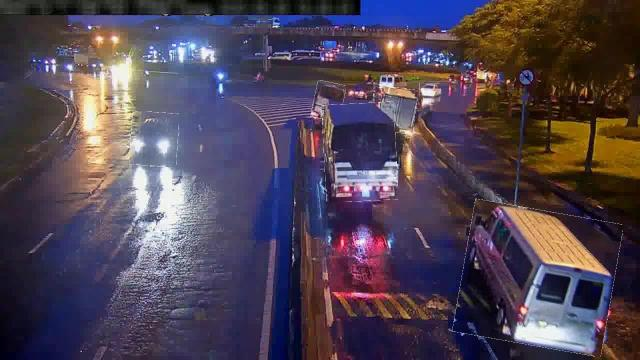Bus: (458, 205, 618, 351)
Car: (130, 112, 178, 166), (420, 83, 440, 97)
Truck: (323, 102, 397, 202), (379, 87, 417, 133), (312, 82, 344, 121)
